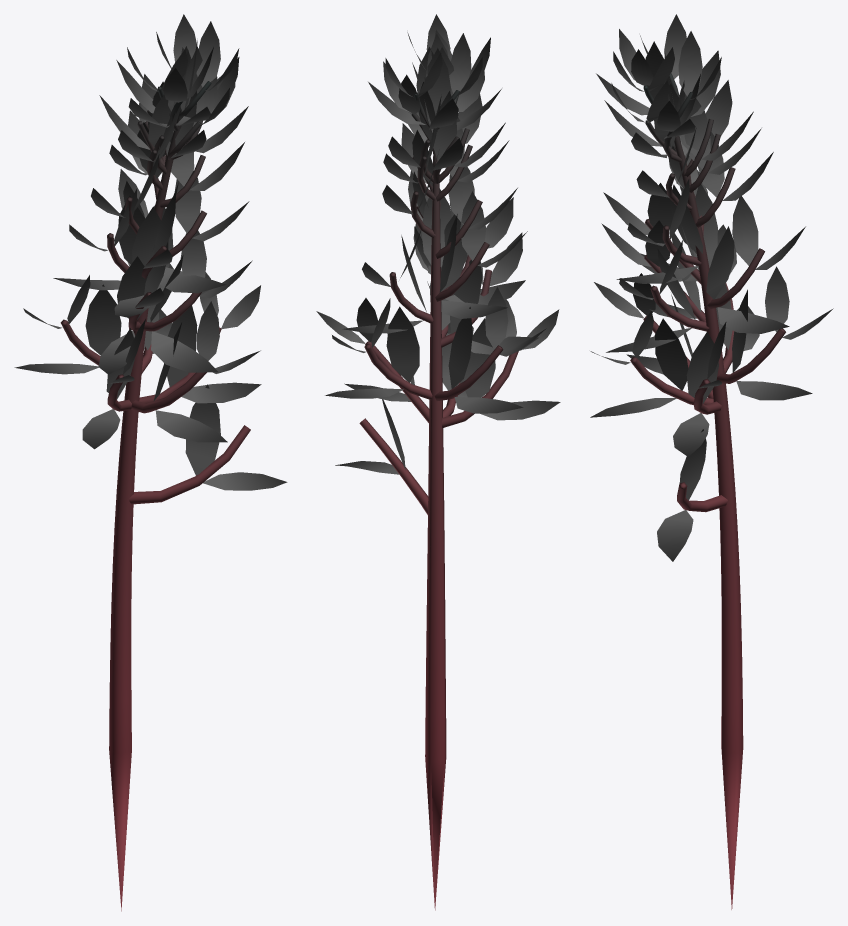
File: plants-bushes-twigs-leafy-twig_v4.fbx
3 renders of one model, left to right at view 1: azimuth 30°, elevation 25°; view 2: azimuth 150°, elevation 25°; view 3: azimuth 270°, elevation 25°, orthographic. The views are drawn at different scales.
Visible parts, largest first — view 1: Leafy Twig_v4; view 2: Leafy Twig_v4; view 3: Leafy Twig_v4.
Boxes of the visible parts, x1,y1,x2,y2 form: Leafy Twig_v4: [14, 14, 287, 911]; Leafy Twig_v4: [316, 14, 560, 910]; Leafy Twig_v4: [590, 14, 833, 909].
Size of the model in its own units: 0.1714 by 0.6 by 0.1489.
